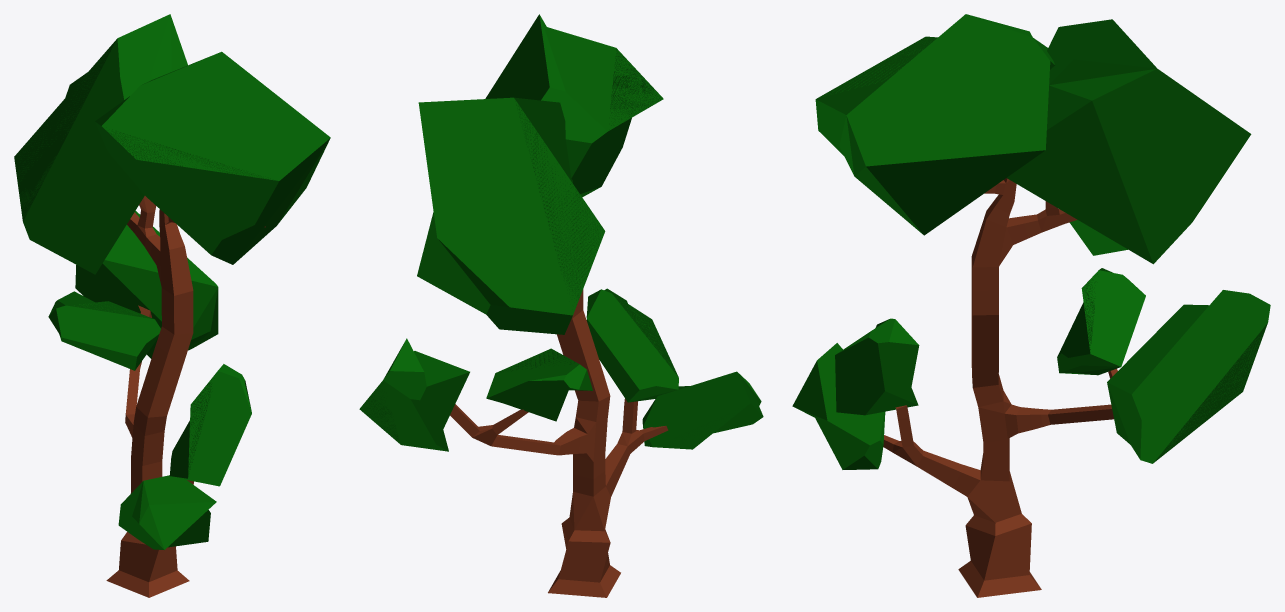
The model's file is treeFull.fbx.
3 renders of one model, left to right at view 1: azimuth 30°, elevation 25°; view 2: azimuth 150°, elevation 25°; view 3: azimuth 270°, elevation 25°, orthographic. The views are drawn at different scales.
Visible parts, largest first — view 1: Cube.002, Cube.007, Plane, Cube.004, Cube.006, Cube.003, Cube.005; view 2: Cube.007, Plane, Cube.002, Cube.004, Cube.006, Cube.003, Cube.005; view 3: Cube.007, Cube.002, Plane, Cube.004, Cube.006, Cube.005, Cube.003.
Part boxes in pixels (x1=…): Cube.002: x1=95, y1=51, x2=330, y2=264; Cube.007: x1=14, y1=14, x2=187, y2=274; Plane: x1=106, y1=196, x2=265, y2=597; Cube.004: x1=75, y1=210, x2=218, y2=358; Cube.006: x1=169, y1=364, x2=251, y2=486; Cube.003: x1=118, y1=475, x2=216, y2=549; Cube.005: x1=48, y1=291, x2=160, y2=370; Cube.007: x1=417, y1=97, x2=605, y2=334; Plane: x1=450, y1=289, x2=668, y2=597; Cube.002: x1=485, y1=14, x2=663, y2=197; Cube.004: x1=359, y1=338, x2=469, y2=451; Cube.006: x1=586, y1=288, x2=678, y2=402; Cube.003: x1=642, y1=371, x2=763, y2=449; Cube.005: x1=486, y1=348, x2=592, y2=421; Cube.007: x1=1007, y1=19, x2=1251, y2=264; Cube.002: x1=815, y1=14, x2=1054, y2=235; Plane: x1=883, y1=178, x2=1117, y2=597; Cube.004: x1=1107, y1=290, x2=1270, y2=463; Cube.006: x1=835, y1=318, x2=919, y2=415; Cube.005: x1=1057, y1=268, x2=1145, y2=375; Cube.003: x1=792, y1=343, x2=885, y2=469.
Size of the model in its own units: 142 by 306 by 221.
